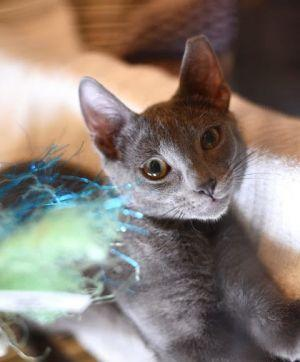rblue: (70, 26, 267, 248)
